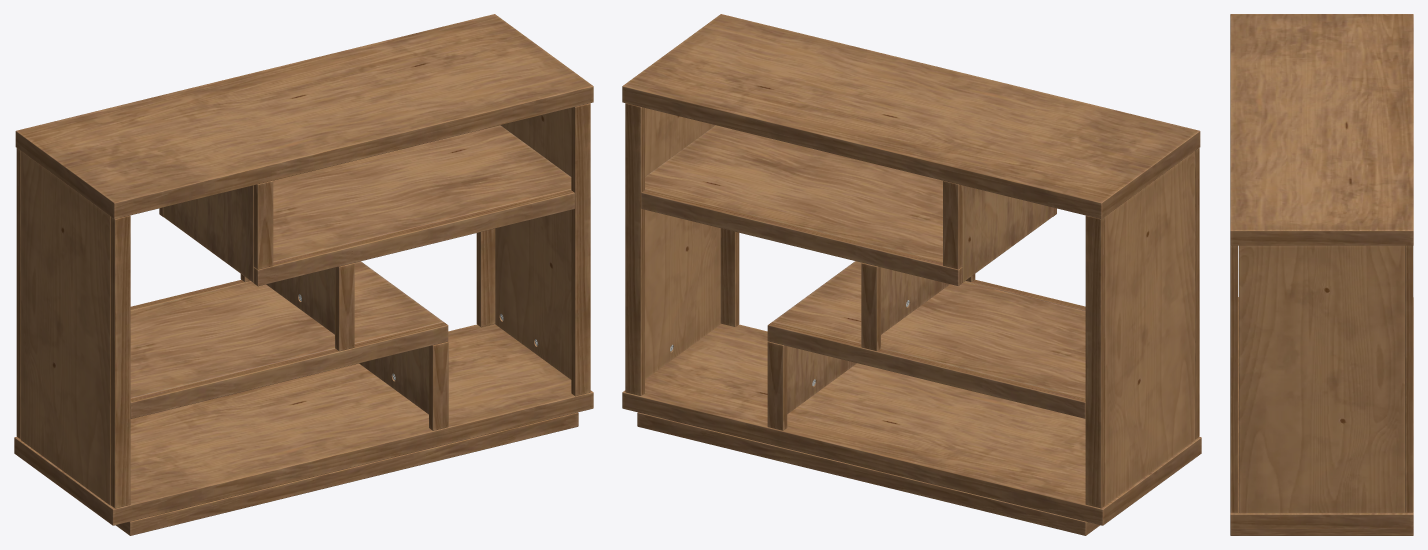
The model's file is abo-B075YYPV3Q.glb.
The picture shows the model from 3 angles, left to right: view 1: azimuth 30°, elevation 25°; view 2: azimuth 150°, elevation 25°; view 3: azimuth 270°, elevation 25°; orthographic projection. The views are drawn at different scales.
Bounding box in the file's own units: 1.15 × 0.771 × 0.41.
1 material, 1 textured.
